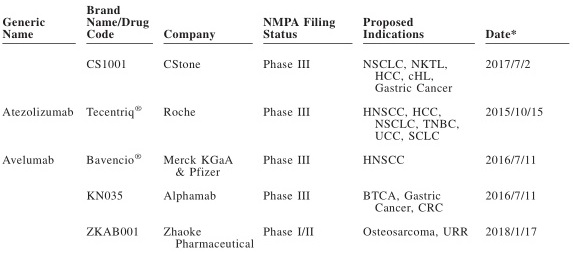column: (361, 1, 469, 254), (162, 1, 253, 254), (2, 1, 75, 254), (262, 1, 335, 254), (85, 1, 151, 254), (484, 1, 545, 254)
row: (1, 104, 572, 119), (1, 16, 573, 29), (1, 152, 573, 165), (1, 117, 572, 130), (1, 189, 573, 201), (1, 225, 573, 237), (1, 58, 572, 70), (1, 70, 572, 82), (1, 28, 572, 39), (1, 82, 572, 93), (1, 131, 572, 142), (1, 202, 572, 213), (1, 238, 572, 249), (1, 5, 573, 15), (1, 167, 573, 177)
